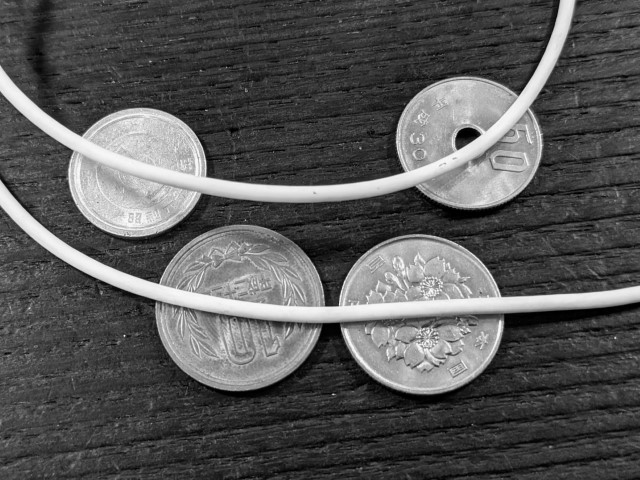100yen: (339, 233, 504, 397)
10yen: (155, 224, 325, 394)
1yen: (68, 108, 207, 240)
50yen: (395, 76, 543, 212)
